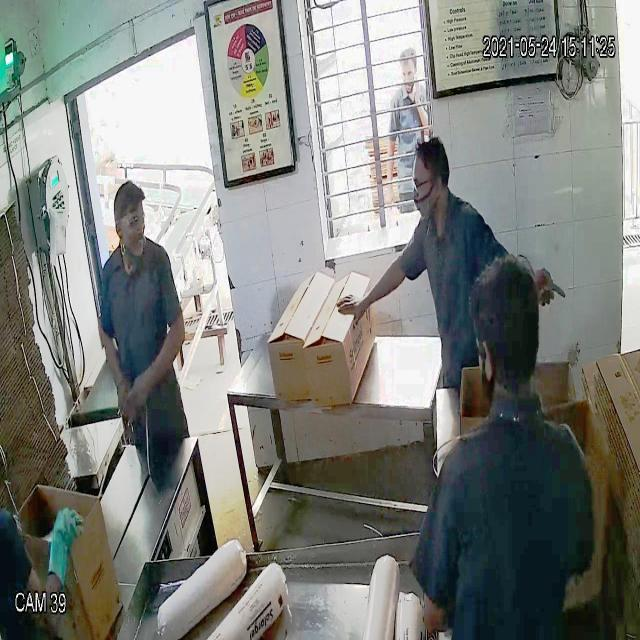glasses: (406, 171, 448, 197), (111, 208, 151, 235)
